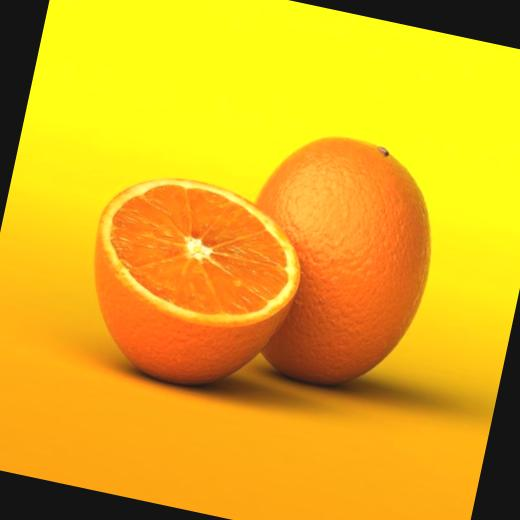Grape: (222, 118, 459, 406), (68, 159, 318, 412)
